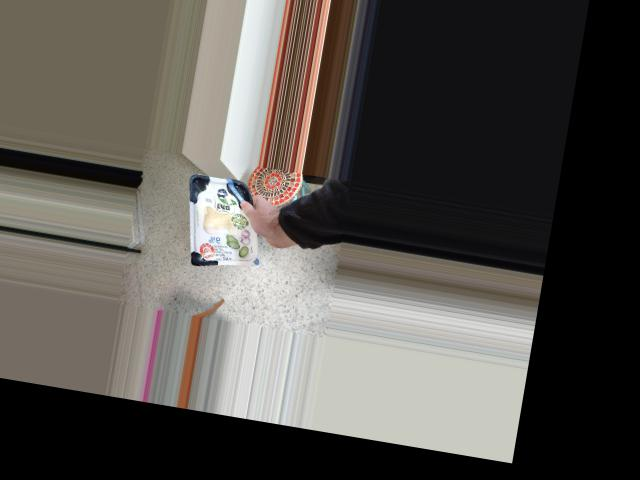cheese: (200, 191, 281, 269)
